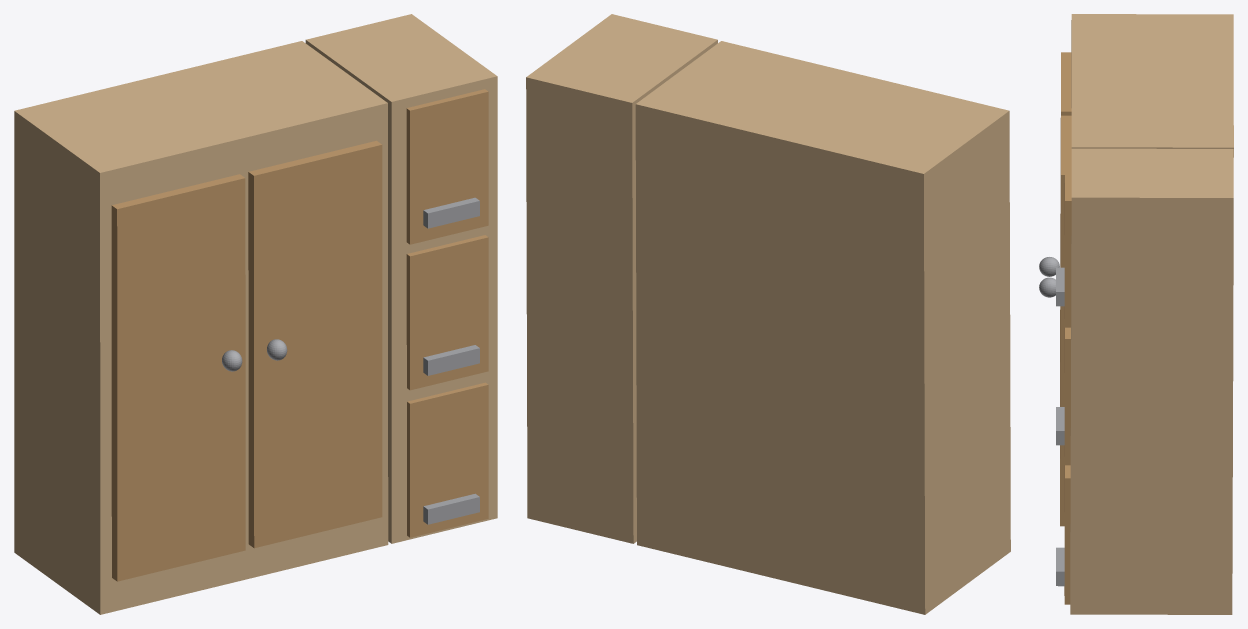
Rendered from Cupboard_1.fbx.
3 views of the same model, side by side, from view 1: azimuth 30°, elevation 25°; view 2: azimuth 150°, elevation 25°; view 3: azimuth 270°, elevation 25° (orthographic). The views are drawn at different scales.
Parts seen in each view (by area): view 1: Sphere.001; view 2: Sphere.001; view 3: Sphere.001.
Boxes of the visible parts, box(x1,y1,x2,y2) form: Sphere.001: box(14, 14, 497, 614); Sphere.001: box(526, 14, 1010, 614); Sphere.001: box(1039, 14, 1233, 614).
Size of the model in its own units: 5.2 by 5.52 by 2.33.
